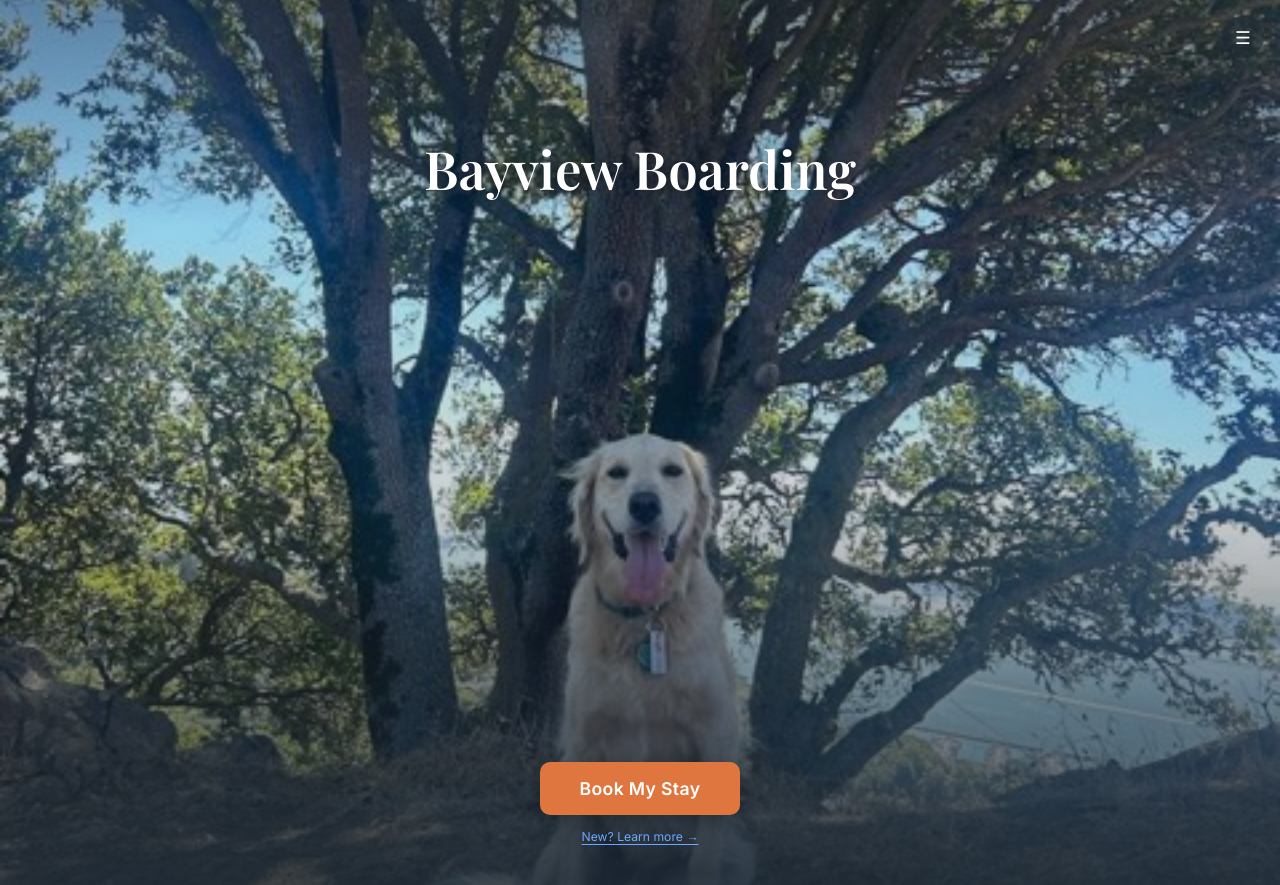
Nav menu (hamburger) › "Book a Stay" jumps straight into the booking flow
This screenshot has width=1280, height=885.
Click the button named "Open menu". click: (1243, 37)
box: left=1222, top=16, right=1264, bottom=58
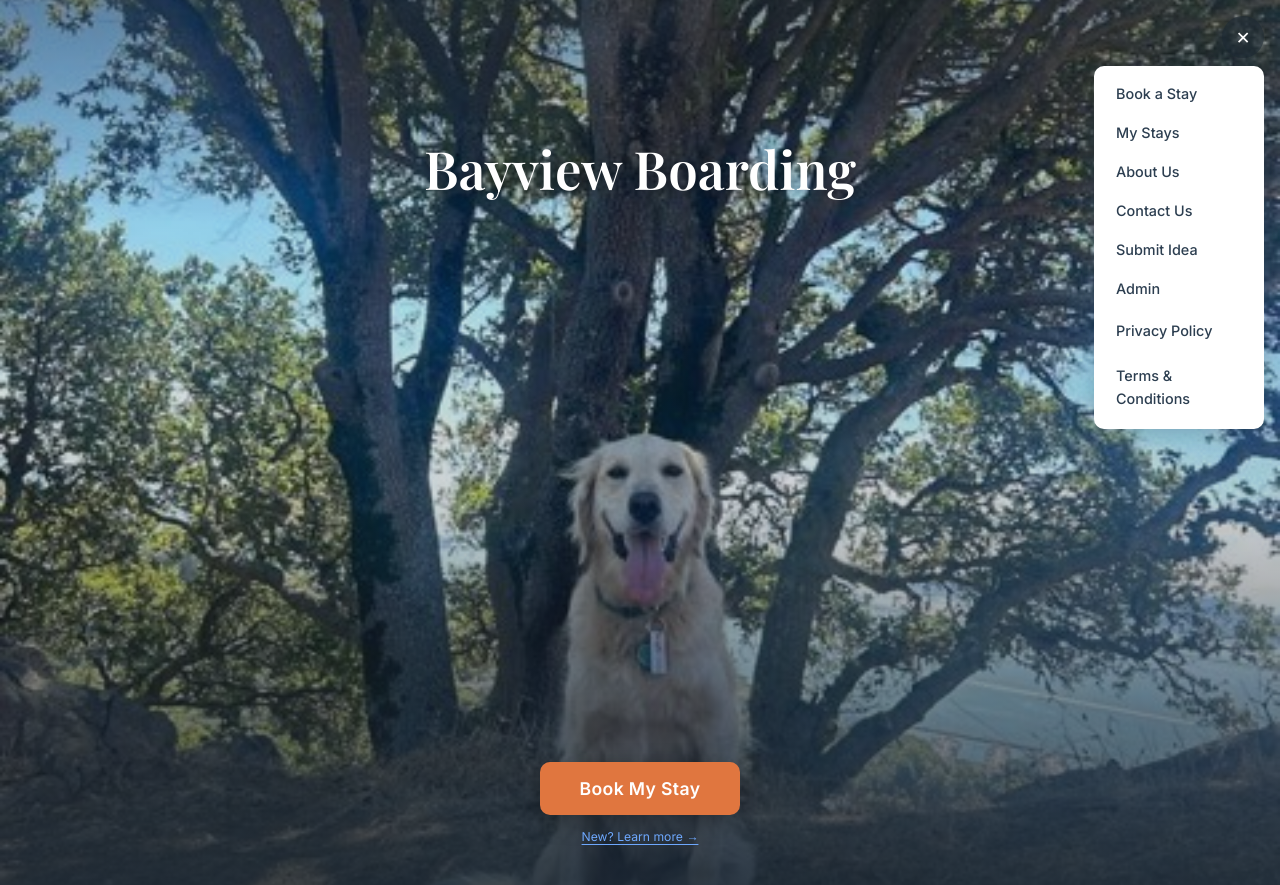
Click the button "Book a Stay". click: (1179, 94)
box: left=1102, top=74, right=1256, bottom=113
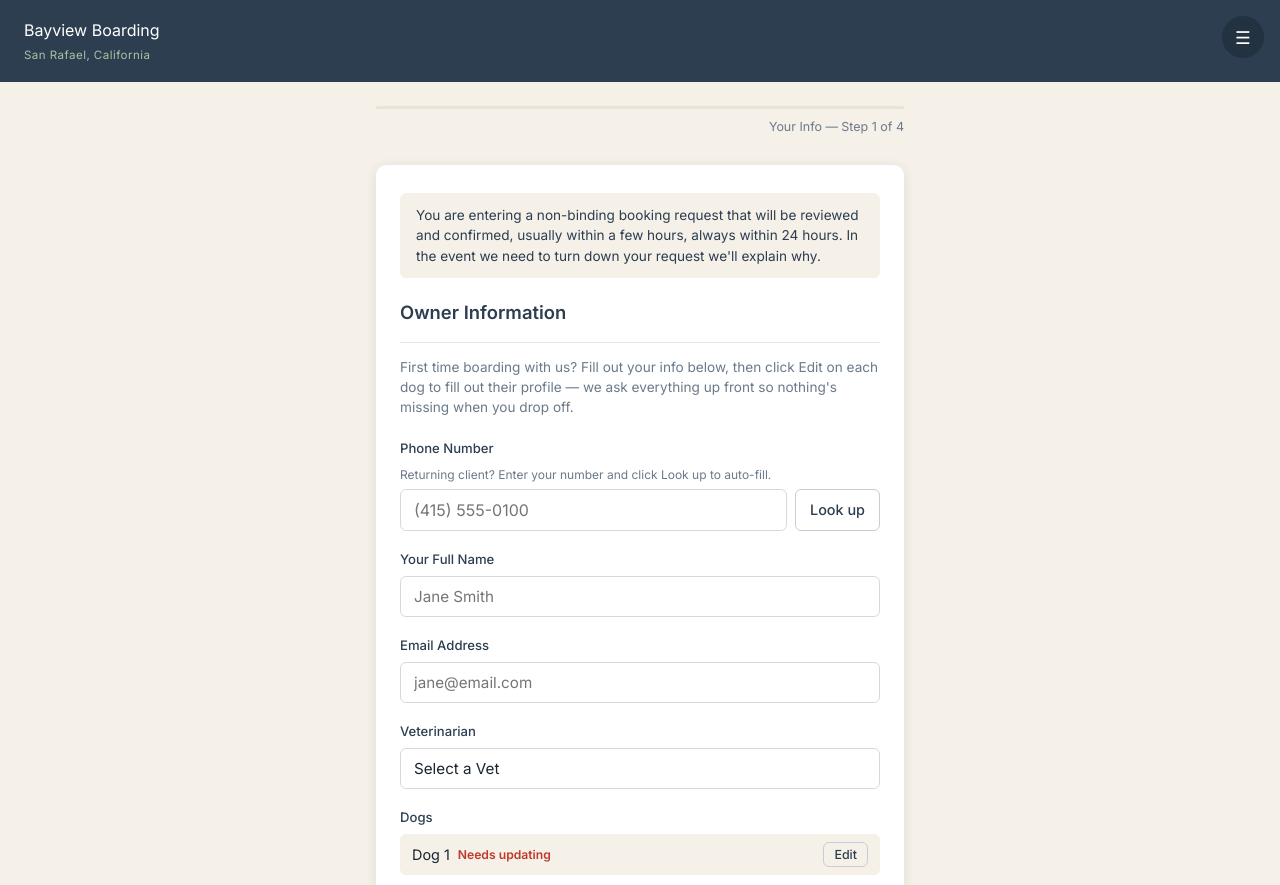
Check: the heading "Owner Information" is shown, box left=400, top=298, right=880, bottom=343
